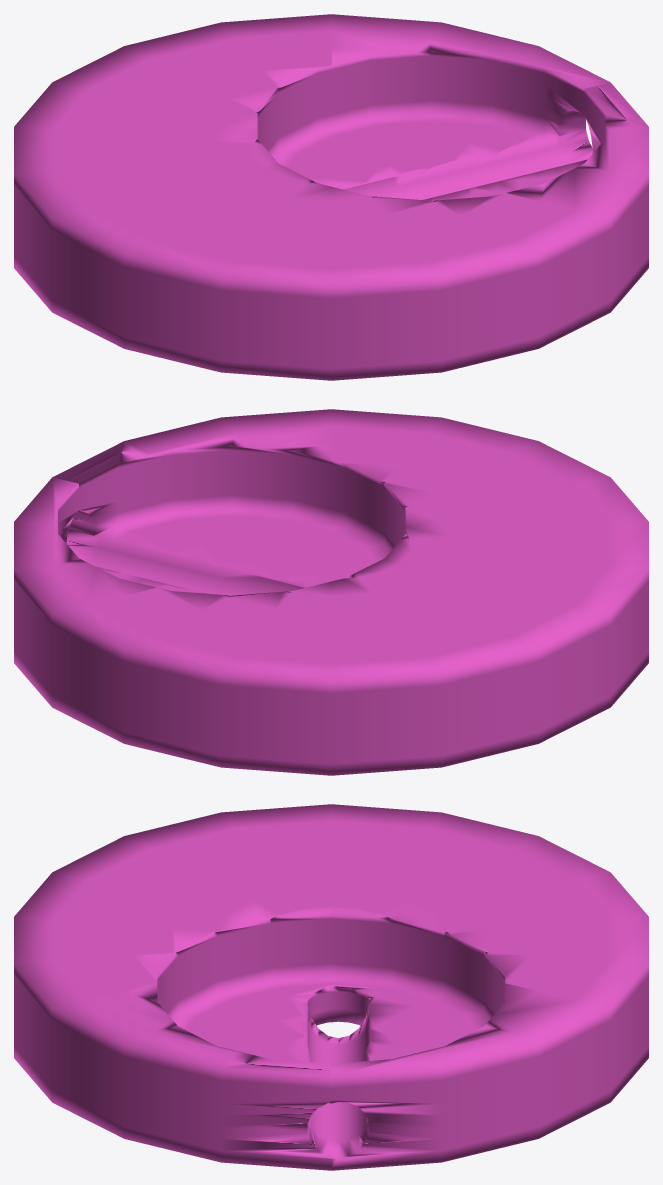
Rendered from Base minis.obj.
The picture shows the model from 3 angles, top to bottom: view 1: azimuth 30°, elevation 25°; view 2: azimuth 150°, elevation 25°; view 3: azimuth 270°, elevation 25°; orthographic projection.
Visible parts, largest first — view 1: Cylinder001; view 2: Cylinder001; view 3: Cylinder001.
Part boxes in pixels (left/top/right/bottom): Cylinder001: left=14, top=14, right=648, bottom=380; Cylinder001: left=14, top=409, right=648, bottom=775; Cylinder001: left=14, top=804, right=648, bottom=1170.
Bounding box in the file's own units: 70 × 11.27 × 68.94.
